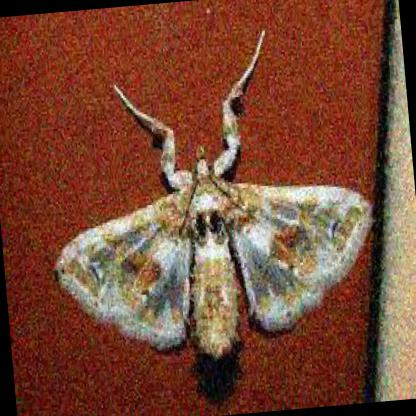leucinodes: (56, 37, 375, 355)
